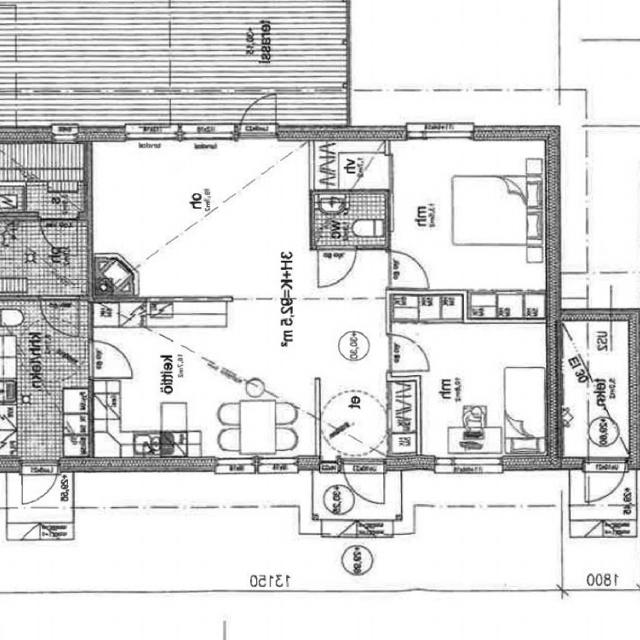door: (586, 457, 626, 509), (344, 457, 384, 509), (22, 456, 58, 504), (240, 92, 276, 140), (40, 296, 80, 339), (384, 334, 429, 372), (40, 212, 78, 255), (87, 340, 130, 377), (384, 250, 428, 286), (319, 244, 356, 285)
